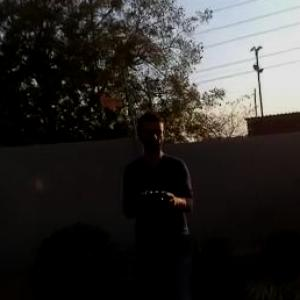follow: (116, 100, 204, 299)
